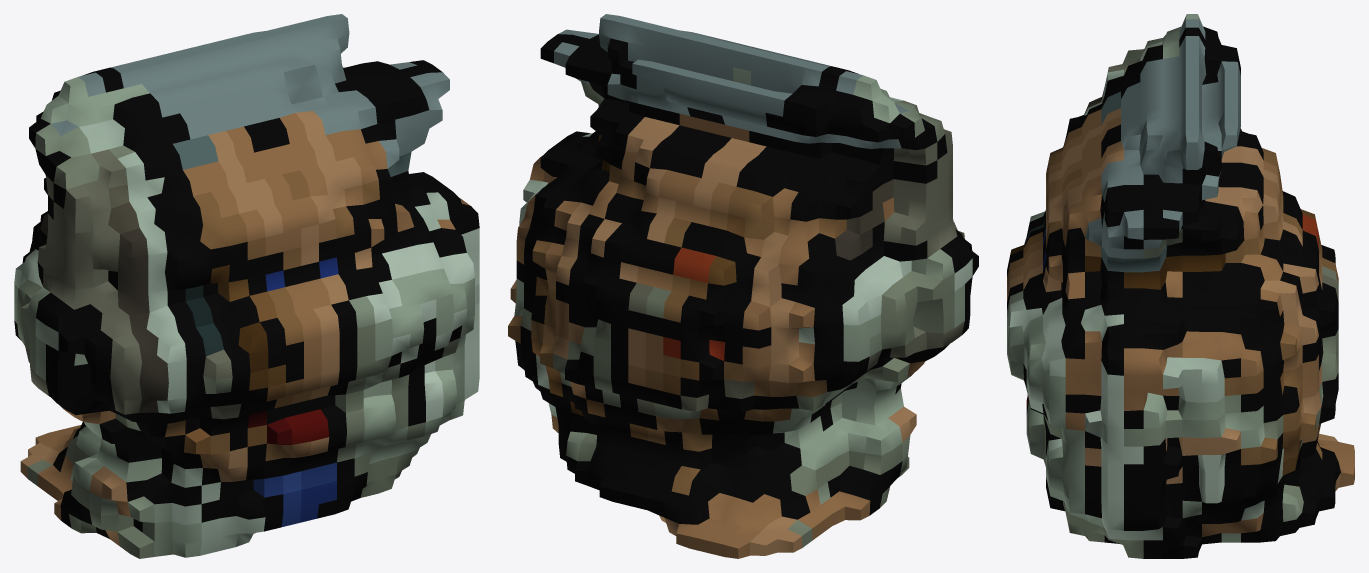
File: Icon_733_03.obj
The picture shows the model from 3 angles, left to right: view 1: azimuth 30°, elevation 25°; view 2: azimuth 150°, elevation 25°; view 3: azimuth 270°, elevation 25°; orthographic projection. The views are drawn at different scales.
Bounding box in the file's own units: 2.4 × 2.38 × 1.78.
Materials: 1 (1 with a texture image).
